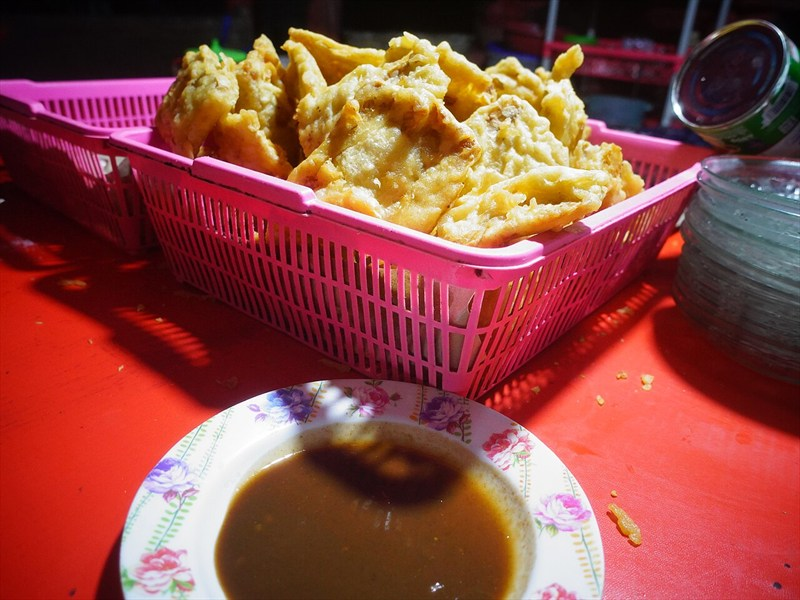Tempe Goreng: (112, 34, 678, 536)
